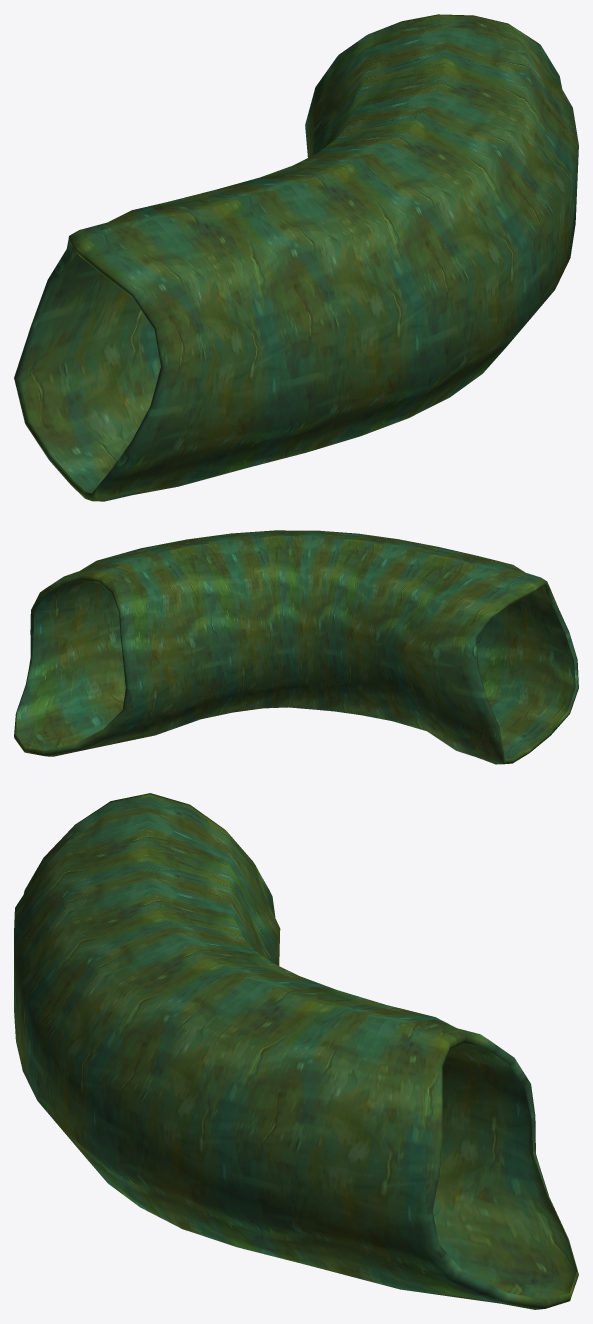
The model's file is MIRKWOOD_MIRK_PLAYSURFACE81.fbx.
The picture shows the model from 3 angles, top to bottom: view 1: azimuth 30°, elevation 25°; view 2: azimuth 150°, elevation 25°; view 3: azimuth 270°, elevation 25°; orthographic projection. The views are drawn at different scales.
Parts seen in each view (by area): view 1: MIRKWOOD_MIRK_PLAYSURFACE81; view 2: MIRKWOOD_MIRK_PLAYSURFACE81; view 3: MIRKWOOD_MIRK_PLAYSURFACE81.
Boxes of the visible parts, x1,y1,x2,y2 form: MIRKWOOD_MIRK_PLAYSURFACE81: [14, 14, 578, 501]; MIRKWOOD_MIRK_PLAYSURFACE81: [14, 530, 578, 764]; MIRKWOOD_MIRK_PLAYSURFACE81: [14, 793, 578, 1309].
Bounding box in the file's own units: 122821 × 48980 × 93694.
1 material, 1 textured.
